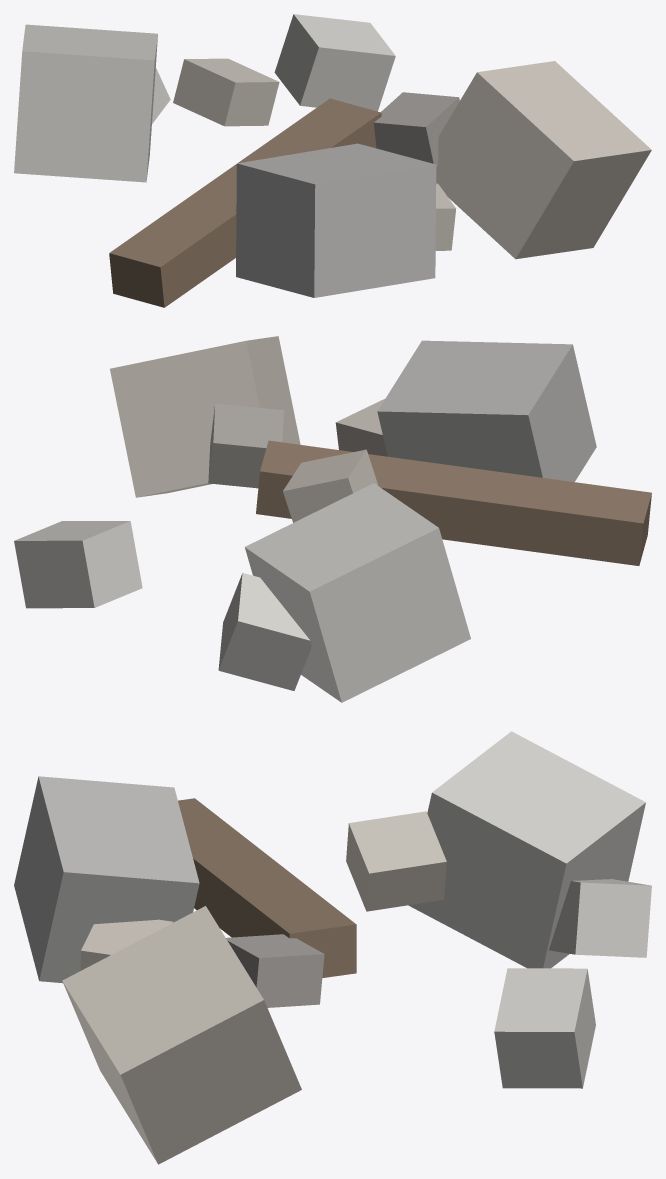
Rendered from ws_fx_debris_3.glb.
3 renders of one model, top to bottom at view 1: azimuth 30°, elevation 25°; view 2: azimuth 150°, elevation 25°; view 3: azimuth 270°, elevation 25°, orthographic. The views are drawn at different scales.
Parts seen in each view (by area): view 1: ws_fx_debris_3; view 2: ws_fx_debris_3; view 3: ws_fx_debris_3.
Boxes of the visible parts, x1,y1,x2,y2 form: ws_fx_debris_3: (14, 14, 651, 307); ws_fx_debris_3: (14, 336, 651, 702); ws_fx_debris_3: (14, 731, 651, 1164).
Bounding box in the file's own units: 0.6384 × 0.2197 × 0.6148.
